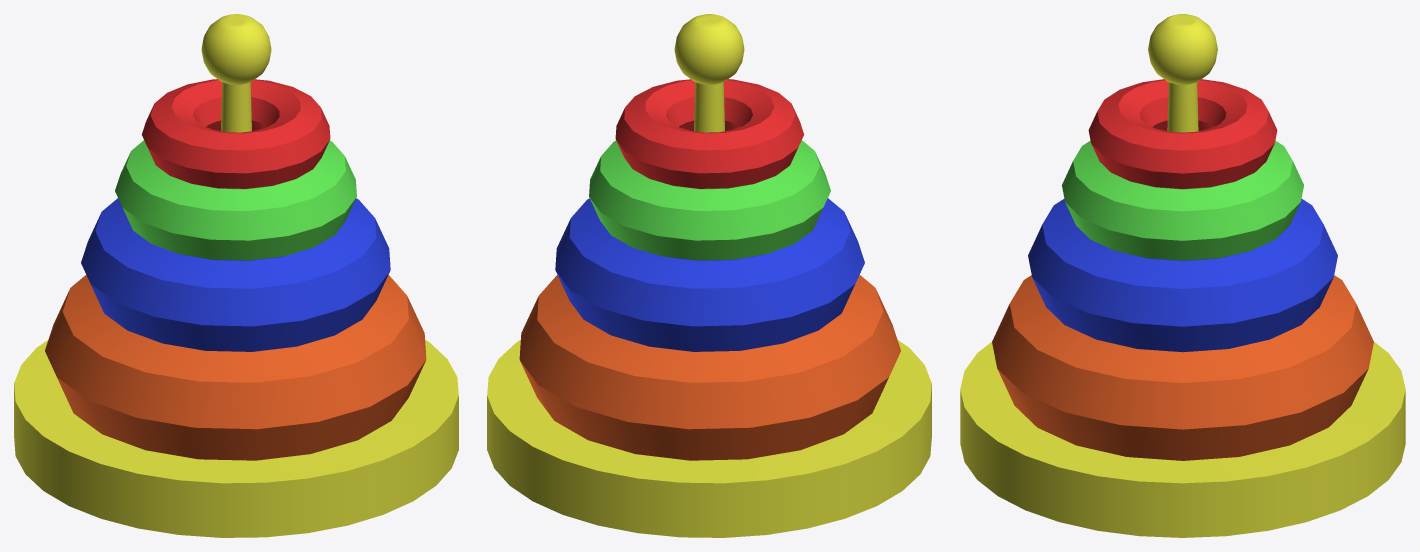
Rendered from BabyToy_Broken.fbx.
The picture shows the model from 3 angles, left to right: view 1: azimuth 30°, elevation 25°; view 2: azimuth 150°, elevation 25°; view 3: azimuth 270°, elevation 25°; orthographic projection.
Visible parts, largest first — view 1: RT_Broken3, RT_Broken4, RT_Broken5, RT_Broken1, RT_Broken2, RT_Broken6; view 2: RT_Broken3, RT_Broken4, RT_Broken5, RT_Broken1, RT_Broken2, RT_Broken6; view 3: RT_Broken3, RT_Broken4, RT_Broken5, RT_Broken1, RT_Broken2, RT_Broken6.
Boxes of the visible parts, x1,y1,x2,y2 form: RT_Broken3: [14, 82, 458, 537]; RT_Broken4: [45, 275, 426, 460]; RT_Broken5: [81, 198, 390, 351]; RT_Broken1: [115, 140, 356, 260]; RT_Broken2: [141, 79, 330, 188]; RT_Broken6: [201, 14, 271, 84]; RT_Broken3: [487, 82, 931, 537]; RT_Broken4: [519, 275, 900, 460]; RT_Broken5: [555, 198, 864, 351]; RT_Broken1: [589, 140, 830, 260]; RT_Broken2: [615, 79, 804, 188]; RT_Broken6: [674, 14, 744, 84]; RT_Broken3: [960, 82, 1405, 537]; RT_Broken4: [992, 275, 1373, 460]; RT_Broken5: [1028, 199, 1337, 352]; RT_Broken1: [1062, 140, 1303, 260]; RT_Broken2: [1088, 79, 1277, 188]; RT_Broken6: [1148, 14, 1217, 84].
Size of the model in its own units: 33.85 by 35.54 by 33.85.
